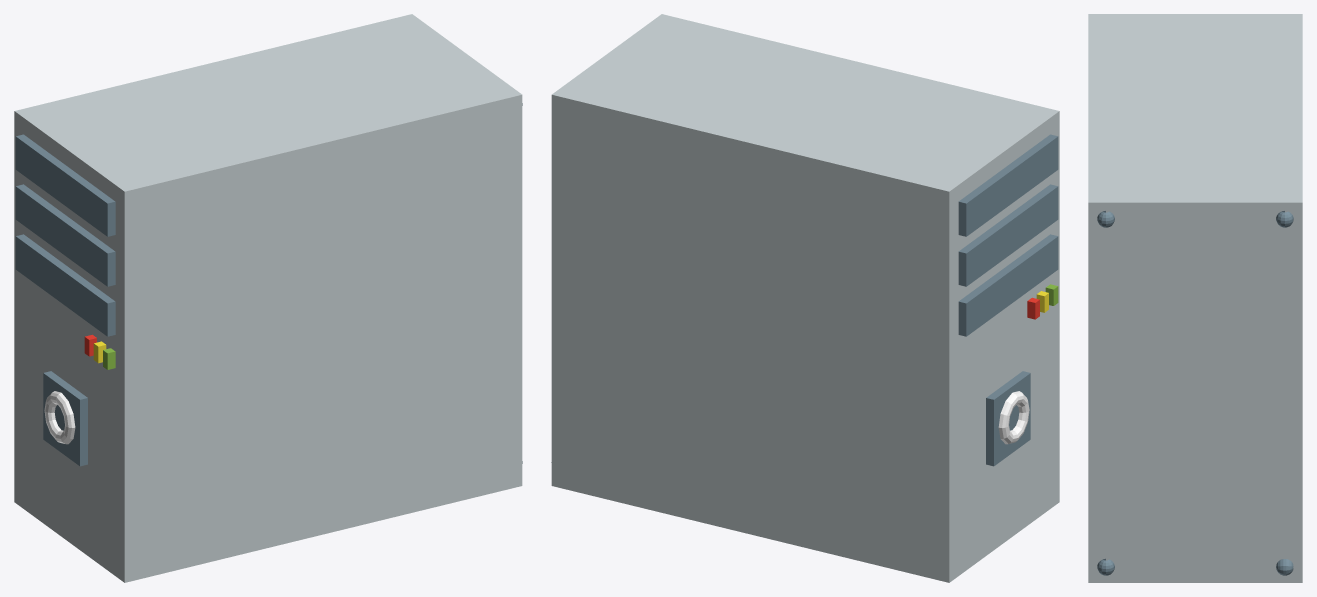
The model's file is cpu_moderno.glb.
3 renders of one model, left to right at view 1: azimuth 30°, elevation 25°; view 2: azimuth 150°, elevation 25°; view 3: azimuth 270°, elevation 25°, orthographic. The views are drawn at different scales.
Visible parts, largest first — view 1: group1393197802, group312831027, group244041984, group77795202, group417992919, group612729409; view 2: group1393197802, group312831027, group244041984, group77795202, group417992919, group612729409; view 3: group1393197802.
Boxes of the visible parts, x1=… form: group1393197802: x1=14, y1=14, x2=522, y2=582; group312831027: x1=15, y1=134, x2=115, y2=236; group244041984: x1=15, y1=234, x2=115, y2=336; group77795202: x1=15, y1=184, x2=115, y2=286; group417992919: x1=43, y1=371, x2=87, y2=466; group612729409: x1=44, y1=391, x2=75, y2=444; group1393197802: x1=551, y1=14, x2=1059, y2=582; group312831027: x1=958, y1=134, x2=1058, y2=236; group244041984: x1=958, y1=234, x2=1058, y2=336; group77795202: x1=958, y1=184, x2=1058, y2=286; group417992919: x1=986, y1=371, x2=1030, y2=466; group612729409: x1=998, y1=391, x2=1029, y2=444; group1393197802: x1=1088, y1=14, x2=1302, y2=582.
Bounding box in the file's own units: 0.5275 × 0.47 × 0.24.
